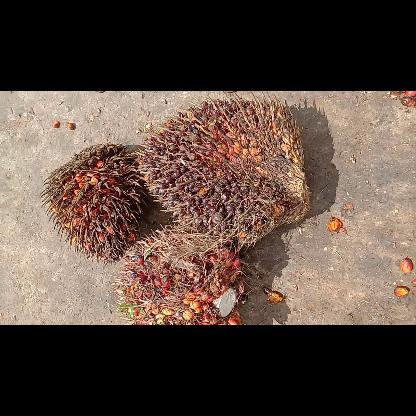Kurang masak: (141, 96, 310, 238)
TBS masak: (122, 230, 246, 324)
Terlalu masak: (44, 142, 144, 260)
